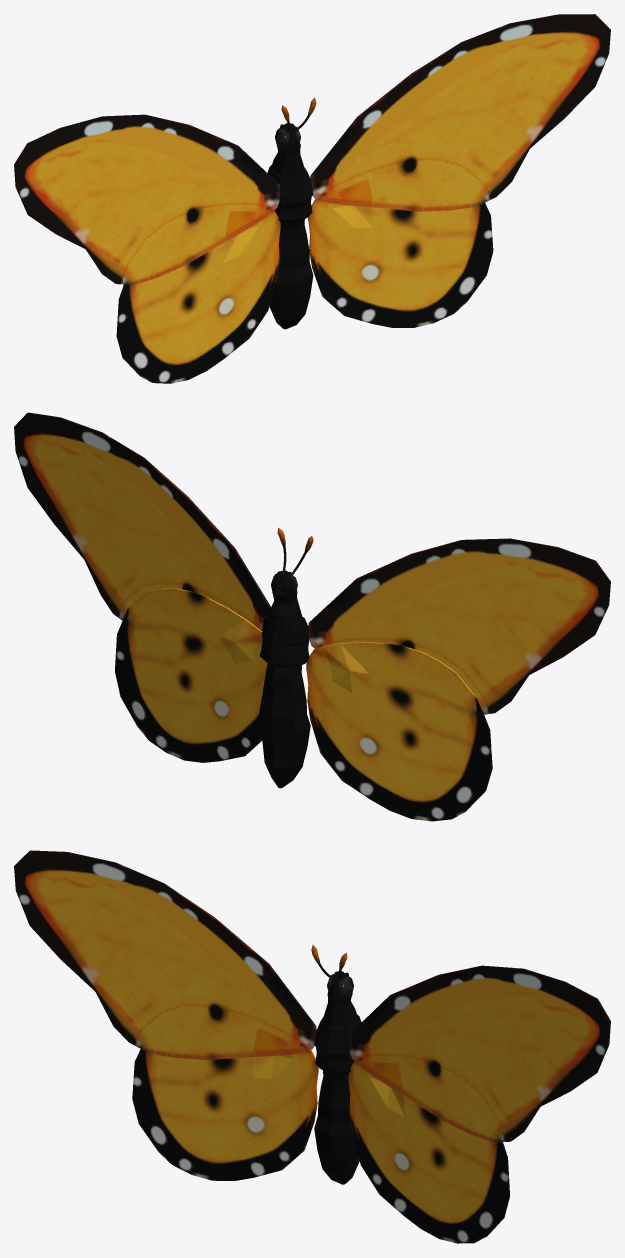
The model's file is butterfly_2.fbx.
The picture shows the model from 3 angles, top to bottom: view 1: azimuth 30°, elevation 25°; view 2: azimuth 150°, elevation 25°; view 3: azimuth 330°, elevation 25°; orthographic projection. The views are drawn at different scales.
Parts seen in each view (by area): view 1: butterflya; view 2: butterflya; view 3: butterflya.
Part boxes in pixels (x1,y1,x2,y2): butterflya: (14,14,610,383); butterflya: (14,412,610,821); butterflya: (14,850,610,1243).
Size of the model in its own units: 0.0926 by 0.0437 by 0.0121.
